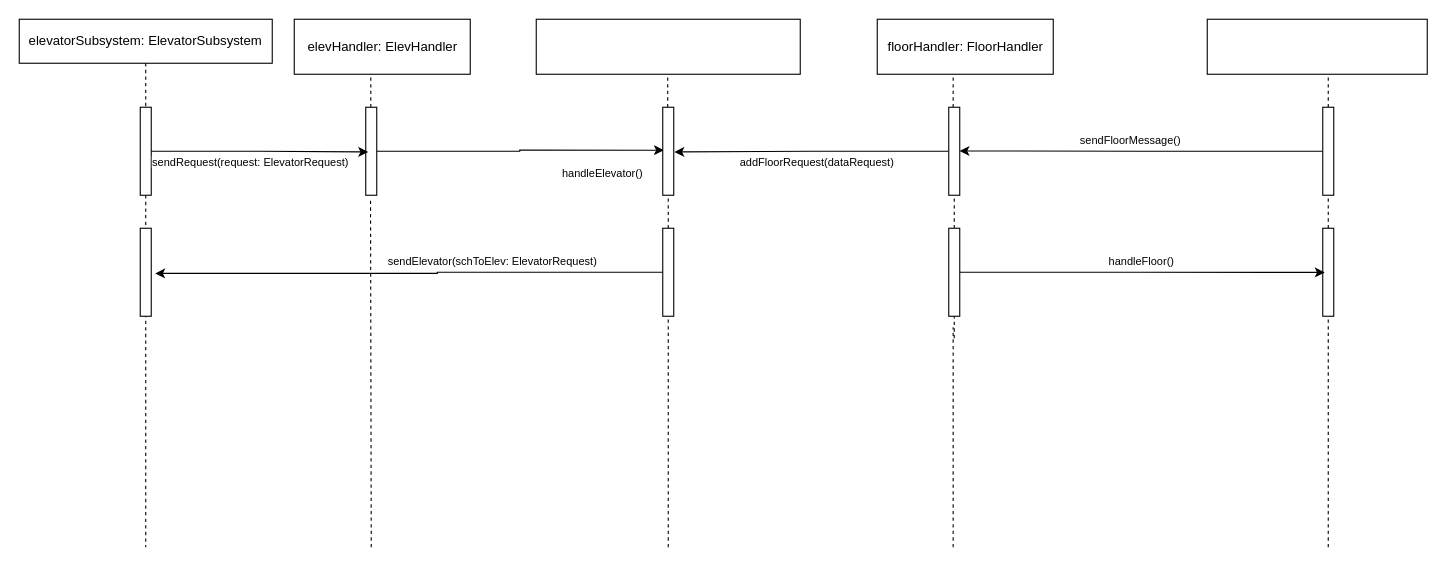
The diagram is 1447 pixels wide and 568 high, and some of its shapes have lost their labels. The shapes that lost their labels are listed below. From the top down, each one's centre as x and y in pixels, then its label:
(667,46): scheduler: Scheduler
(1316,46): floorSubsystem: FloorSubsystem
